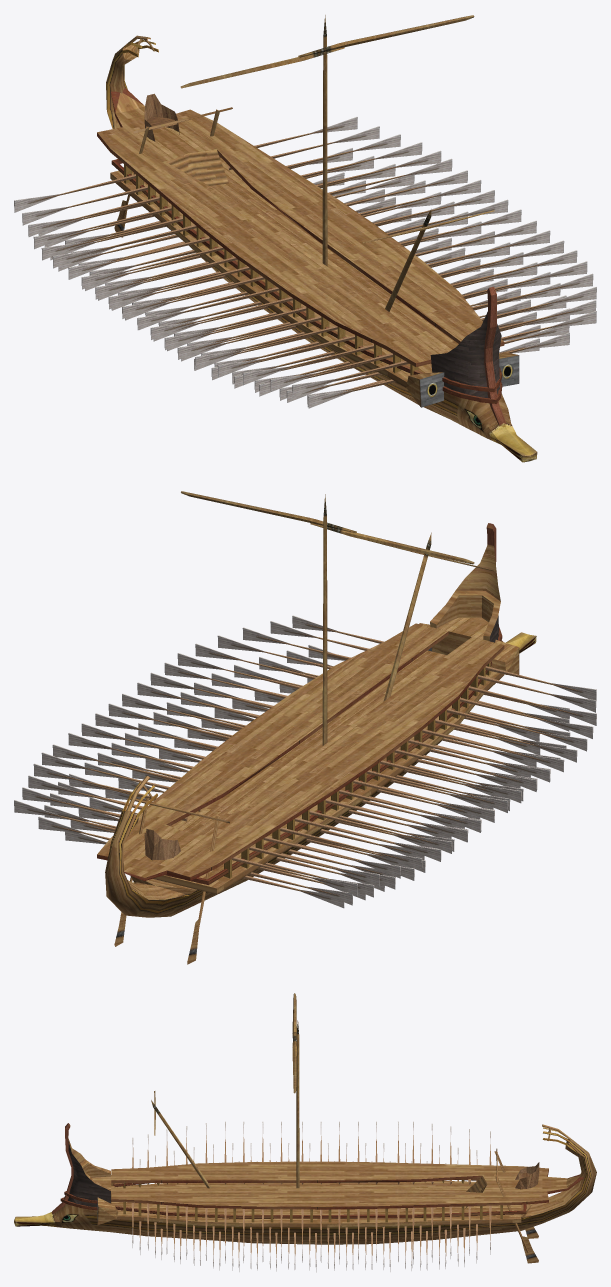
The model's file is hele_ship_trireme.dae.
3 renders of one model, top to bottom at view 1: azimuth 30°, elevation 25°; view 2: azimuth 150°, elevation 25°; view 3: azimuth 270°, elevation 25°, orthographic. The views are drawn at different scales.
Visible parts, largest first — view 1: Circle_000; view 2: Circle_000; view 3: Circle_000.
Part boxes in pixels (<box>): Circle_000: <box>14,15,596,462</box>; Circle_000: <box>14,491,596,964</box>; Circle_000: <box>14,993,596,1272</box>.
Bounding box in the file's own units: 25.2 × 20.27 × 46.12.
